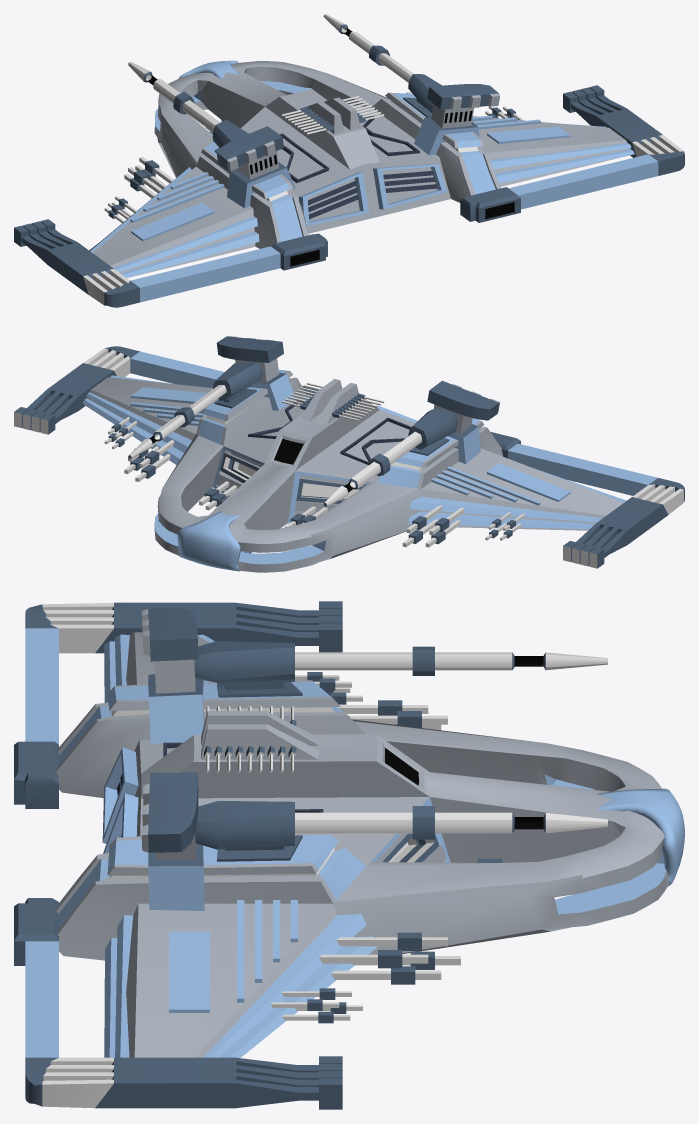
The model's file is SpaceShip 2.fbx.
The picture shows the model from 3 angles, top to bottom: view 1: azimuth 30°, elevation 25°; view 2: azimuth 150°, elevation 25°; view 3: azimuth 270°, elevation 25°; orthographic projection. The views are drawn at different scales.
Visible parts, largest first — view 1: Base, !Weapon_2, !Weapon_1, Basic Detail, Wingdetail, Antennas, Nosedetail; view 2: Base, !Weapon_2, !Weapon_1, Wingdetail, Basic Detail, Nosedetail, Antennas; view 3: Base, !Weapon_2, !Weapon_1, Wingdetail, Basic Detail, Nosedetail, Antennas.
Boxes of the visible parts, left/top/right/bottom form: Base: left=93, top=61, right=630, bottom=277; !Weapon_2: left=14, top=85, right=684, bottom=307; !Weapon_1: left=128, top=14, right=499, bottom=208; Basic Detail: left=130, top=115, right=570, bottom=241; Wingdetail: left=89, top=91, right=634, bottom=277; Antennas: left=281, top=95, right=384, bottom=134; Nosedetail: left=178, top=60, right=239, bottom=79; Base: left=84, top=369, right=623, bottom=572; !Weapon_2: left=14, top=346, right=684, bottom=568; !Weapon_1: left=128, top=336, right=499, bottom=506; Wingdetail: left=83, top=375, right=626, bottom=547; Basic Detail: left=130, top=387, right=570, bottom=553; Nosedetail: left=177, top=511, right=240, bottom=571; Antennas: left=281, top=382, right=384, bottom=421; Base: left=56, top=632, right=669, bottom=1057; !Weapon_2: left=14, top=601, right=342, bottom=1109; !Weapon_1: left=141, top=607, right=607, bottom=910; Wingdetail: left=104, top=634, right=502, bottom=1057; Basic Detail: left=102, top=680, right=323, bottom=1012; Nosedetail: left=597, top=788, right=684, bottom=885; Antennas: left=204, top=706, right=296, bottom=772.
Bounding box in the file's own units: 6.39 × 1.1 × 3.75.
